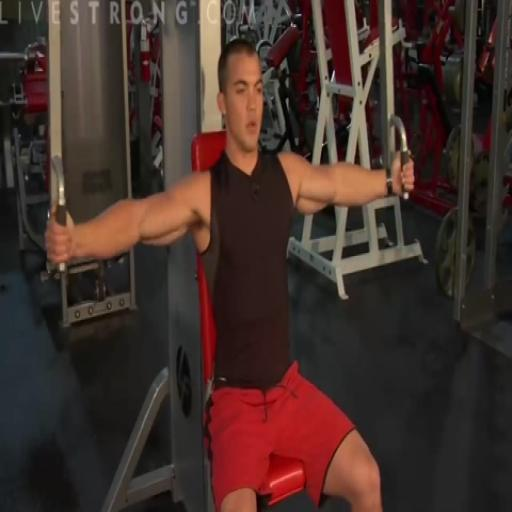exercise: (42, 36, 417, 510)
